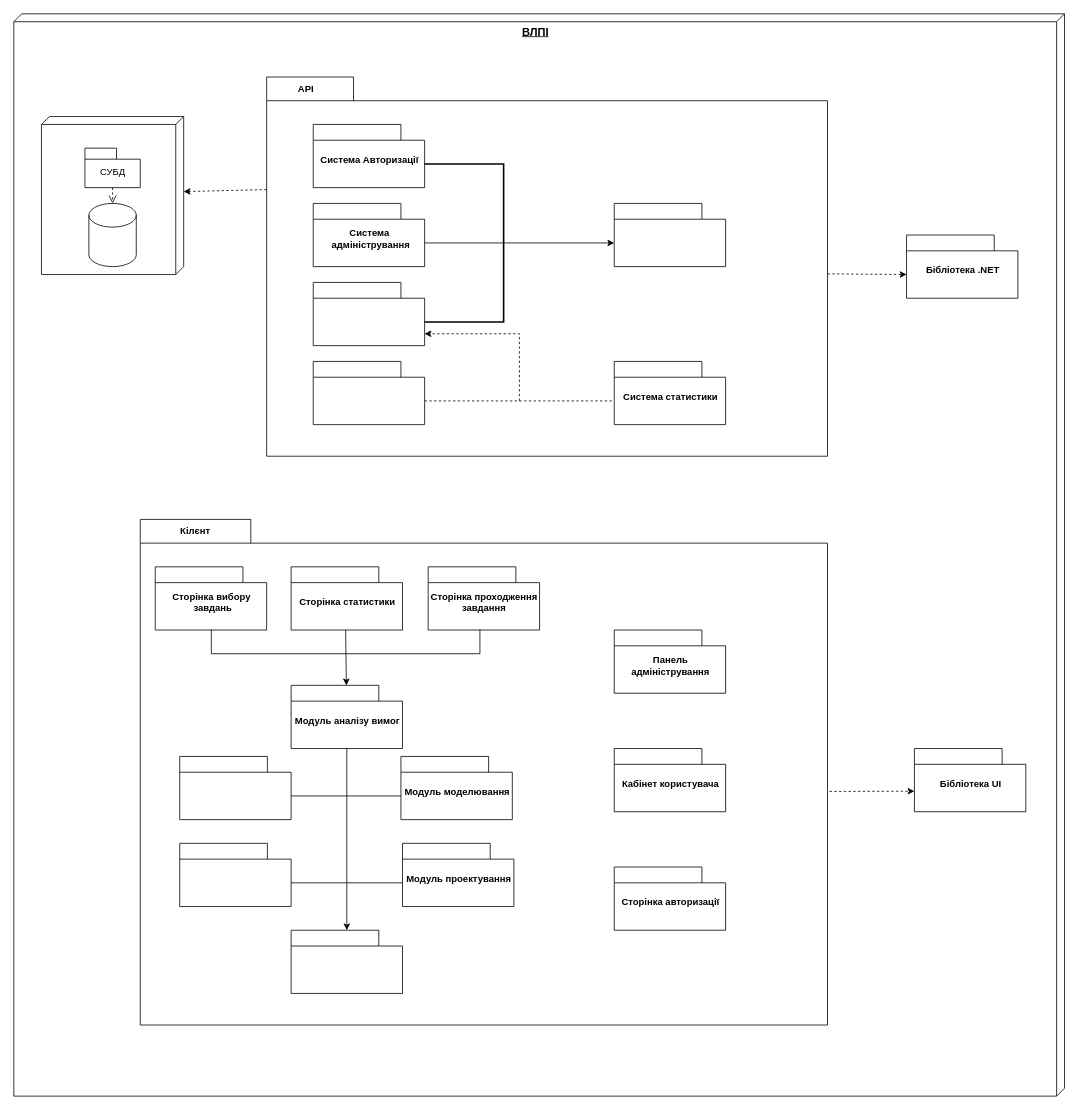
The diagram is 1078 pixels wide and 1110 high, and some of its shapes have lost their labels. The box of each missing label's shape, as (x1, y1, x2, y2) in pixels:
БД: (88, 203, 136, 267)
Модуль кодування: (179, 756, 291, 820)
Модуль тестування: (179, 843, 291, 907)
Модулі системи: (290, 929, 403, 993)
Сервер БД: (41, 116, 184, 275)
Система взаємодії з БД: (613, 203, 726, 267)
Система оцінювання: (312, 361, 425, 425)
Система перевірки завдань: (312, 282, 425, 346)
